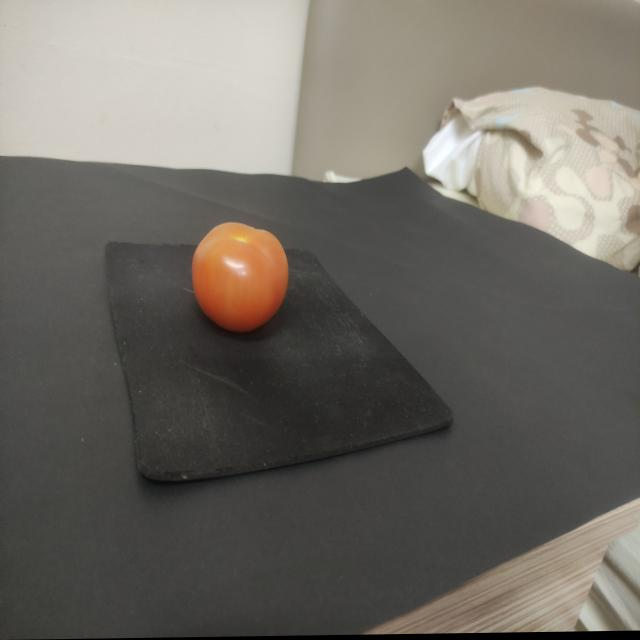sari: (177, 207, 309, 346)
